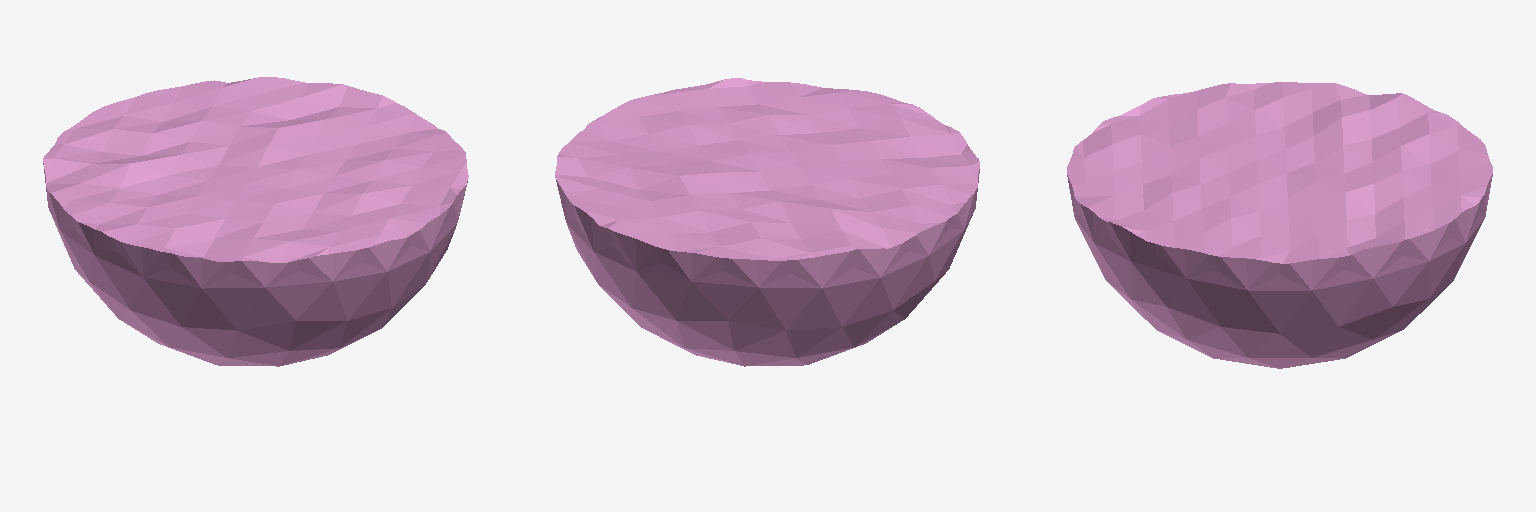
File: water.obj
3 renders of one model, left to right at view 1: azimuth 30°, elevation 25°; view 2: azimuth 150°, elevation 25°; view 3: azimuth 270°, elevation 25°, orthographic.
Parts seen in each view (by area): view 1: water; view 2: water; view 3: water.
Boxes of the visible parts, <box> form: water: <box>43,77,468,366</box>; water: <box>555,78,979,366</box>; water: <box>1067,82,1492,368</box>.
Bounding box in the file's own units: 130 × 62.82 × 131.